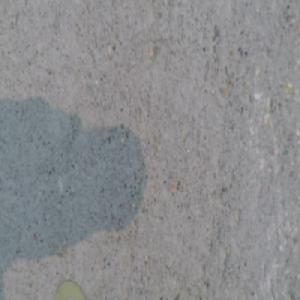Washer: (54, 281, 85, 299)
